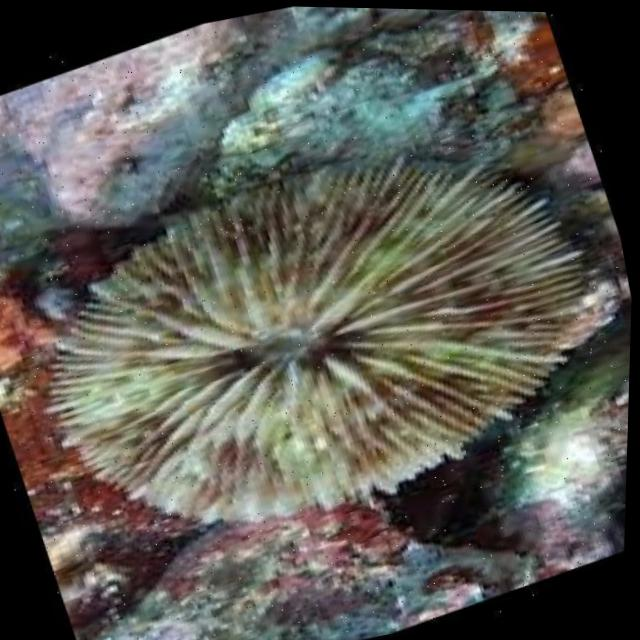Healthy Coral: (0, 61, 639, 611)
